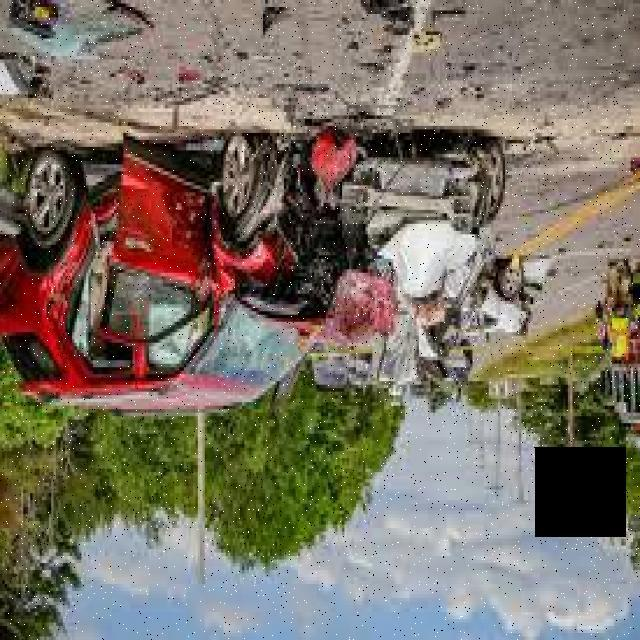severe: (2, 126, 510, 430)
